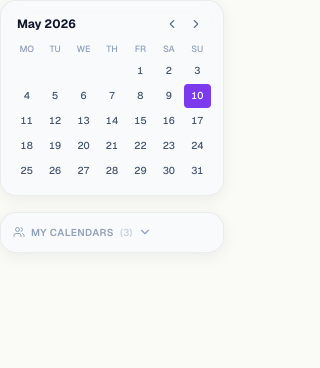
Test: CalendarLeftRail › My Calendars section › Show all link only appears when at least one master is hidden
Note: Expand the list — «show all» now surfaces because a master is hidden.
What coordinates should you click on to do the following:
click the button with test id "rail-my-calendars-toggle"
I would click on:
 (83, 232)
Its box is [13,224,152,240].
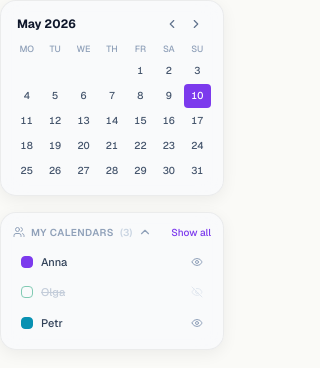
expect the button with test id "rail-show-all-masters" is shown: met, box [171,224,211,240]
